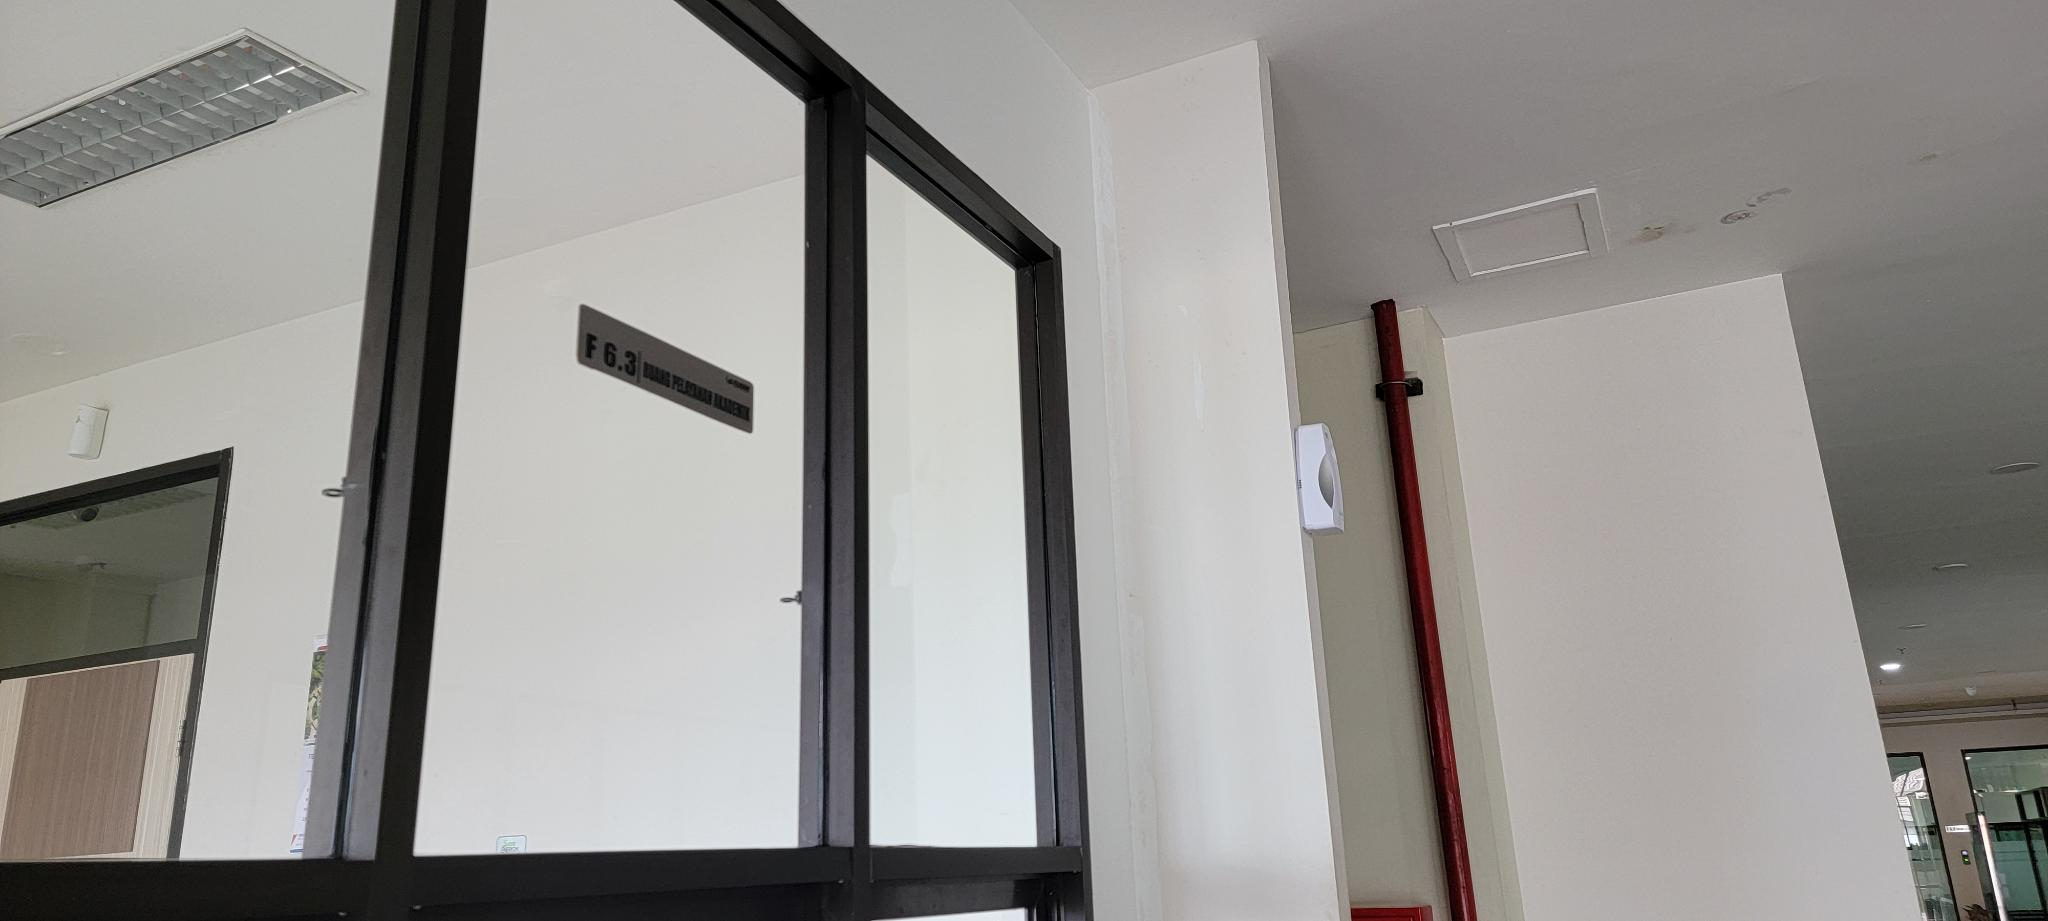plate: (576, 303, 752, 435)
